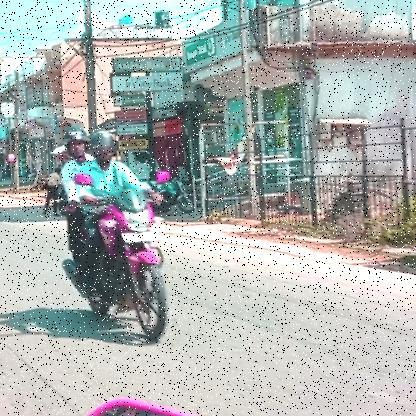motorcycle: (54, 188, 176, 360)
